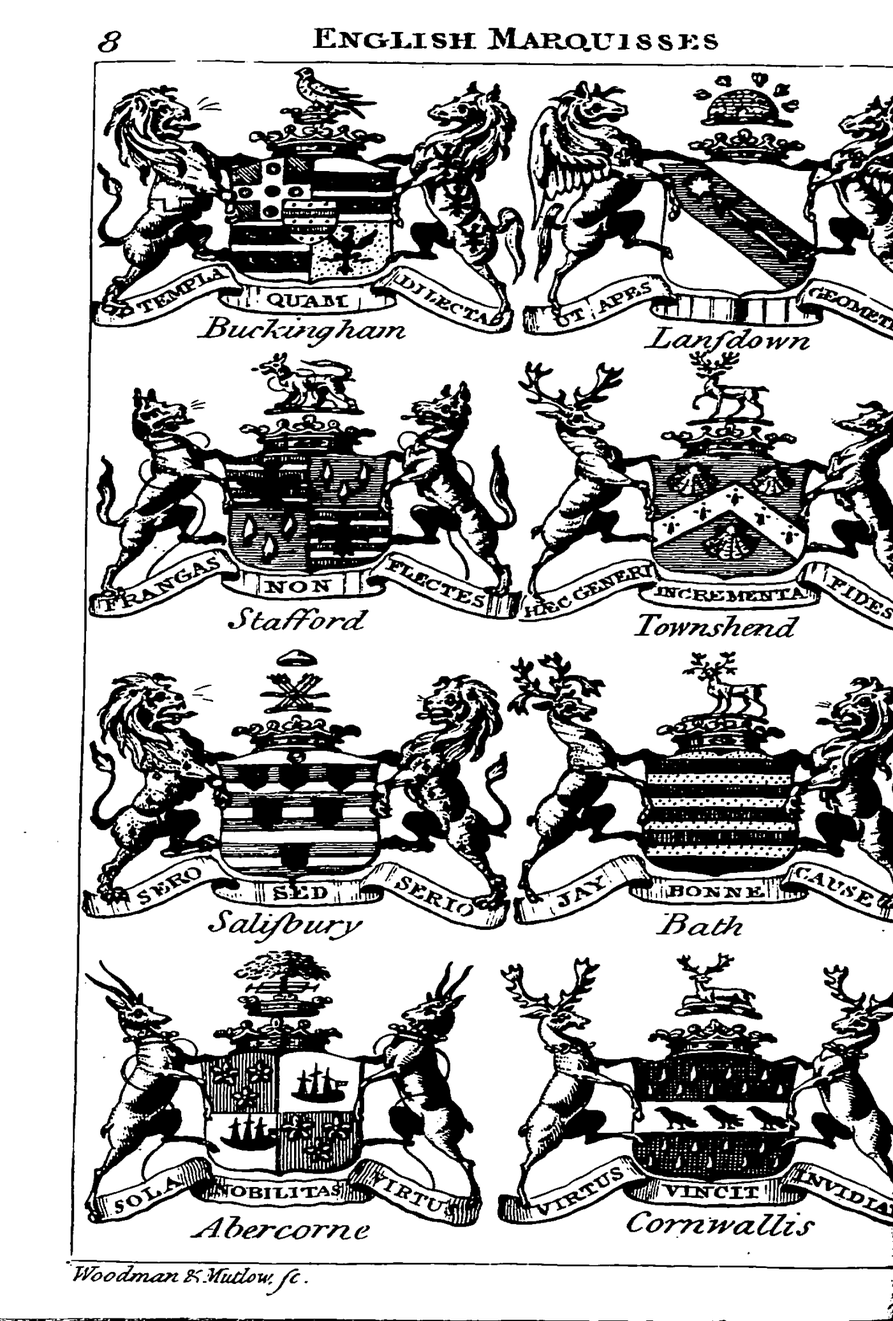coat_of_arms: (93, 63, 523, 361), (100, 646, 508, 940), (485, 947, 893, 1241), (89, 942, 482, 1246), (98, 361, 512, 647), (506, 645, 893, 937), (520, 362, 893, 647), (533, 71, 893, 361)
